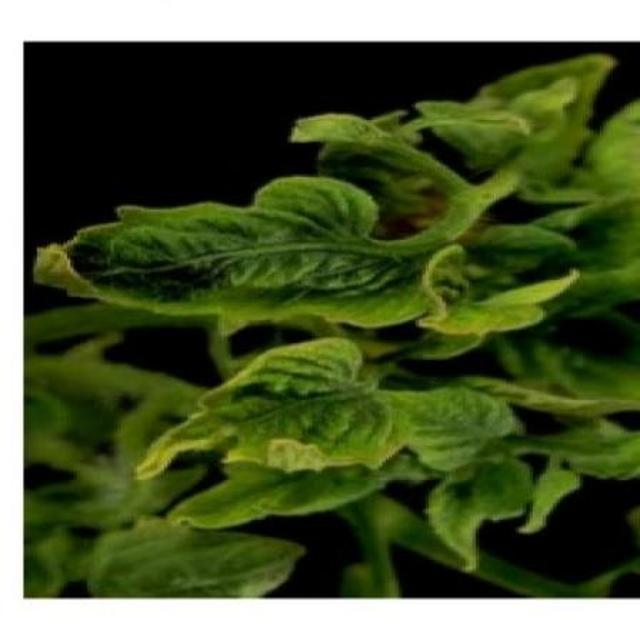Yellow Leaf Curl Virus: (315, 207, 551, 592)
